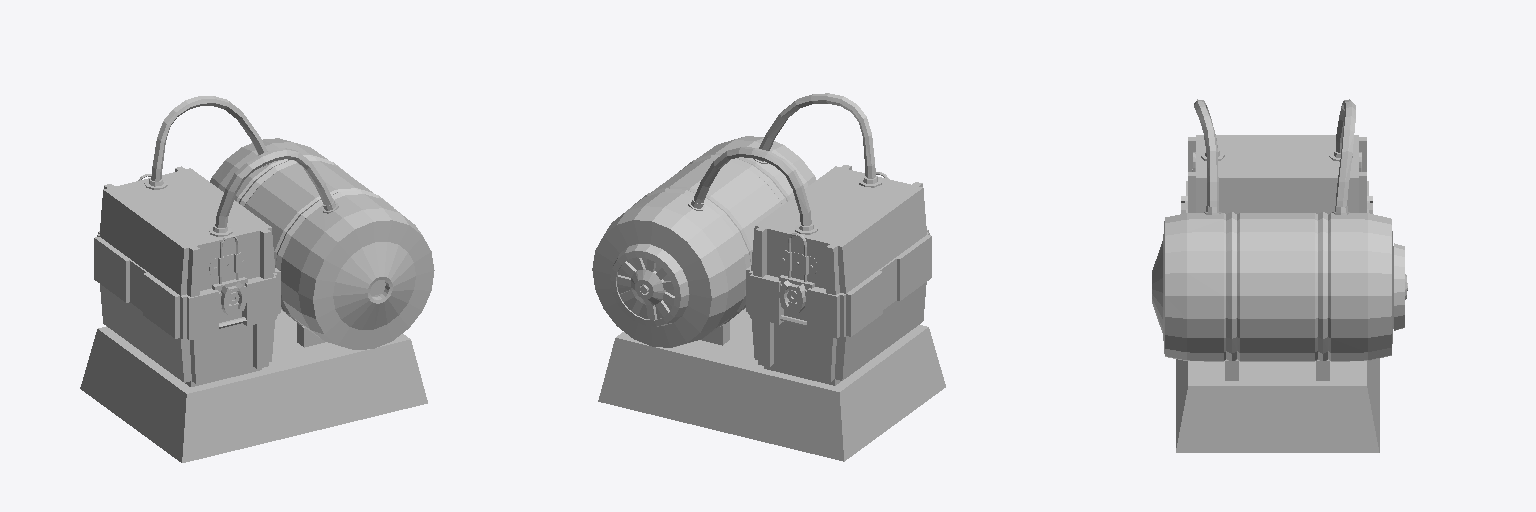
The model's file is medic_tank_2.obj.
3 views of the same model, side by side, from view 1: azimuth 30°, elevation 25°; view 2: azimuth 150°, elevation 25°; view 3: azimuth 270°, elevation 25° (orthographic).
Visible parts, largest first — view 1: Mesh_0140.rip; view 2: Mesh_0140.rip; view 3: Mesh_0140.rip.
Part boxes in pixels (bbox=[...]): Mesh_0140.rip: bbox=[80, 96, 434, 462]; Mesh_0140.rip: bbox=[592, 93, 945, 461]; Mesh_0140.rip: bbox=[1152, 99, 1407, 452].
Bounding box in the file's own units: 1.1 × 1.15 × 0.9668.